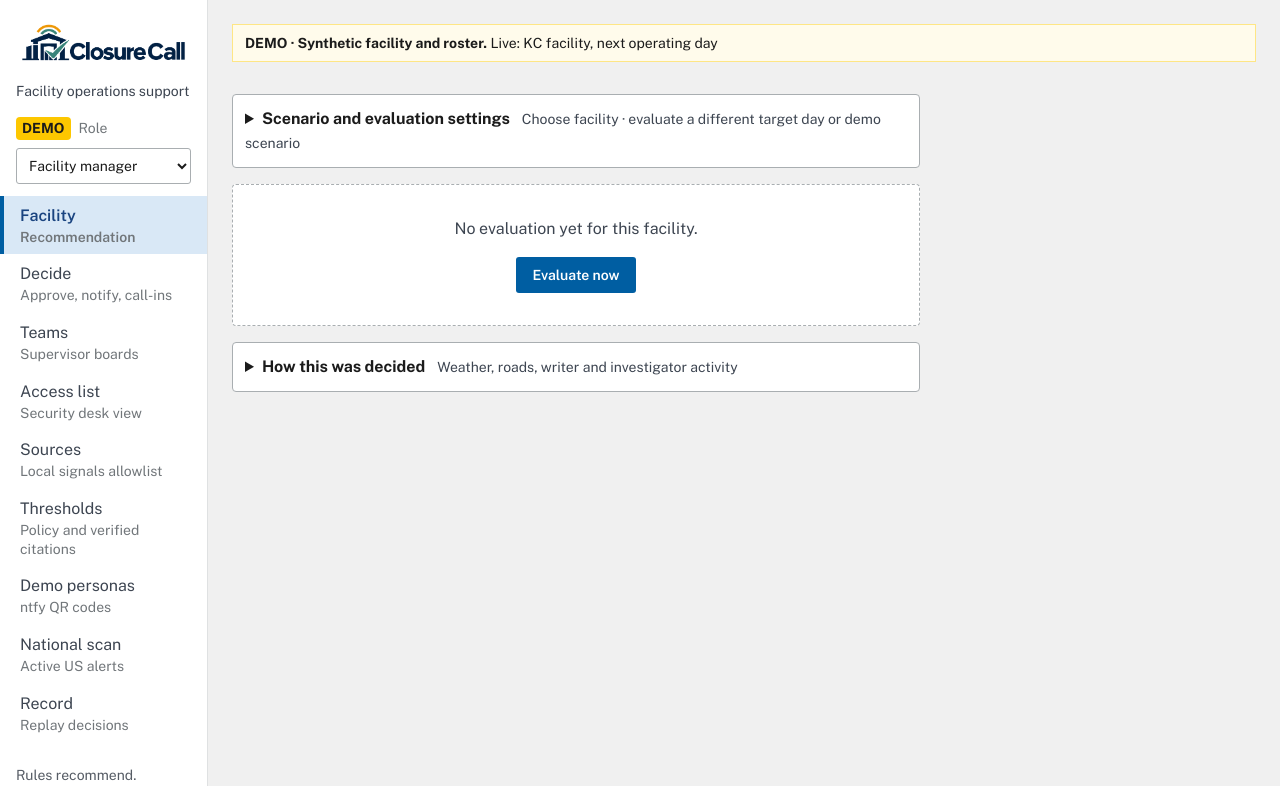
Scenario: demo role switcher › switching to Supervisor lists only supervisors and shows the first one's team
The width and height of the screenshot is (1280, 786).
Step 1. Select "Supervisor" in the dropdown labelled "Role" → (104, 166), box [16,148,191,184]
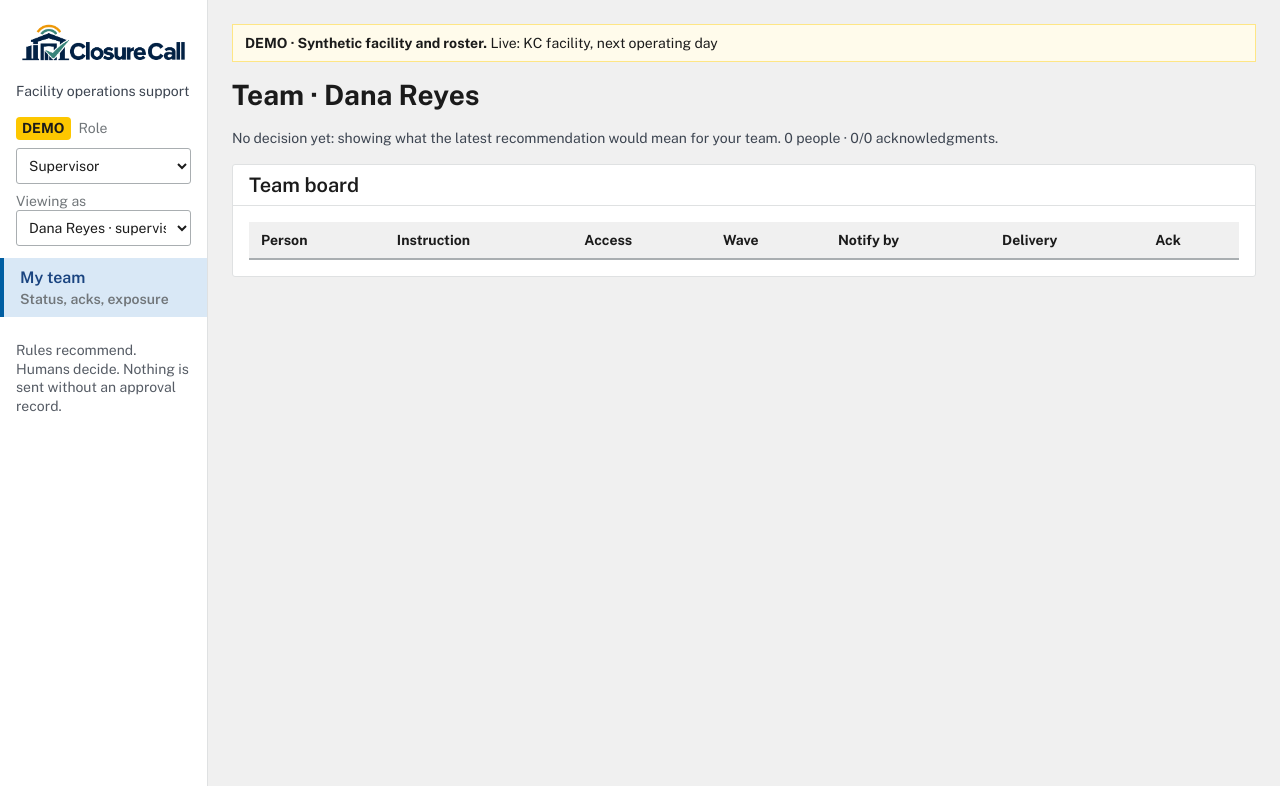
Now the heading "Team · Dana Reyes" is shown, box [232,78,480,112]
